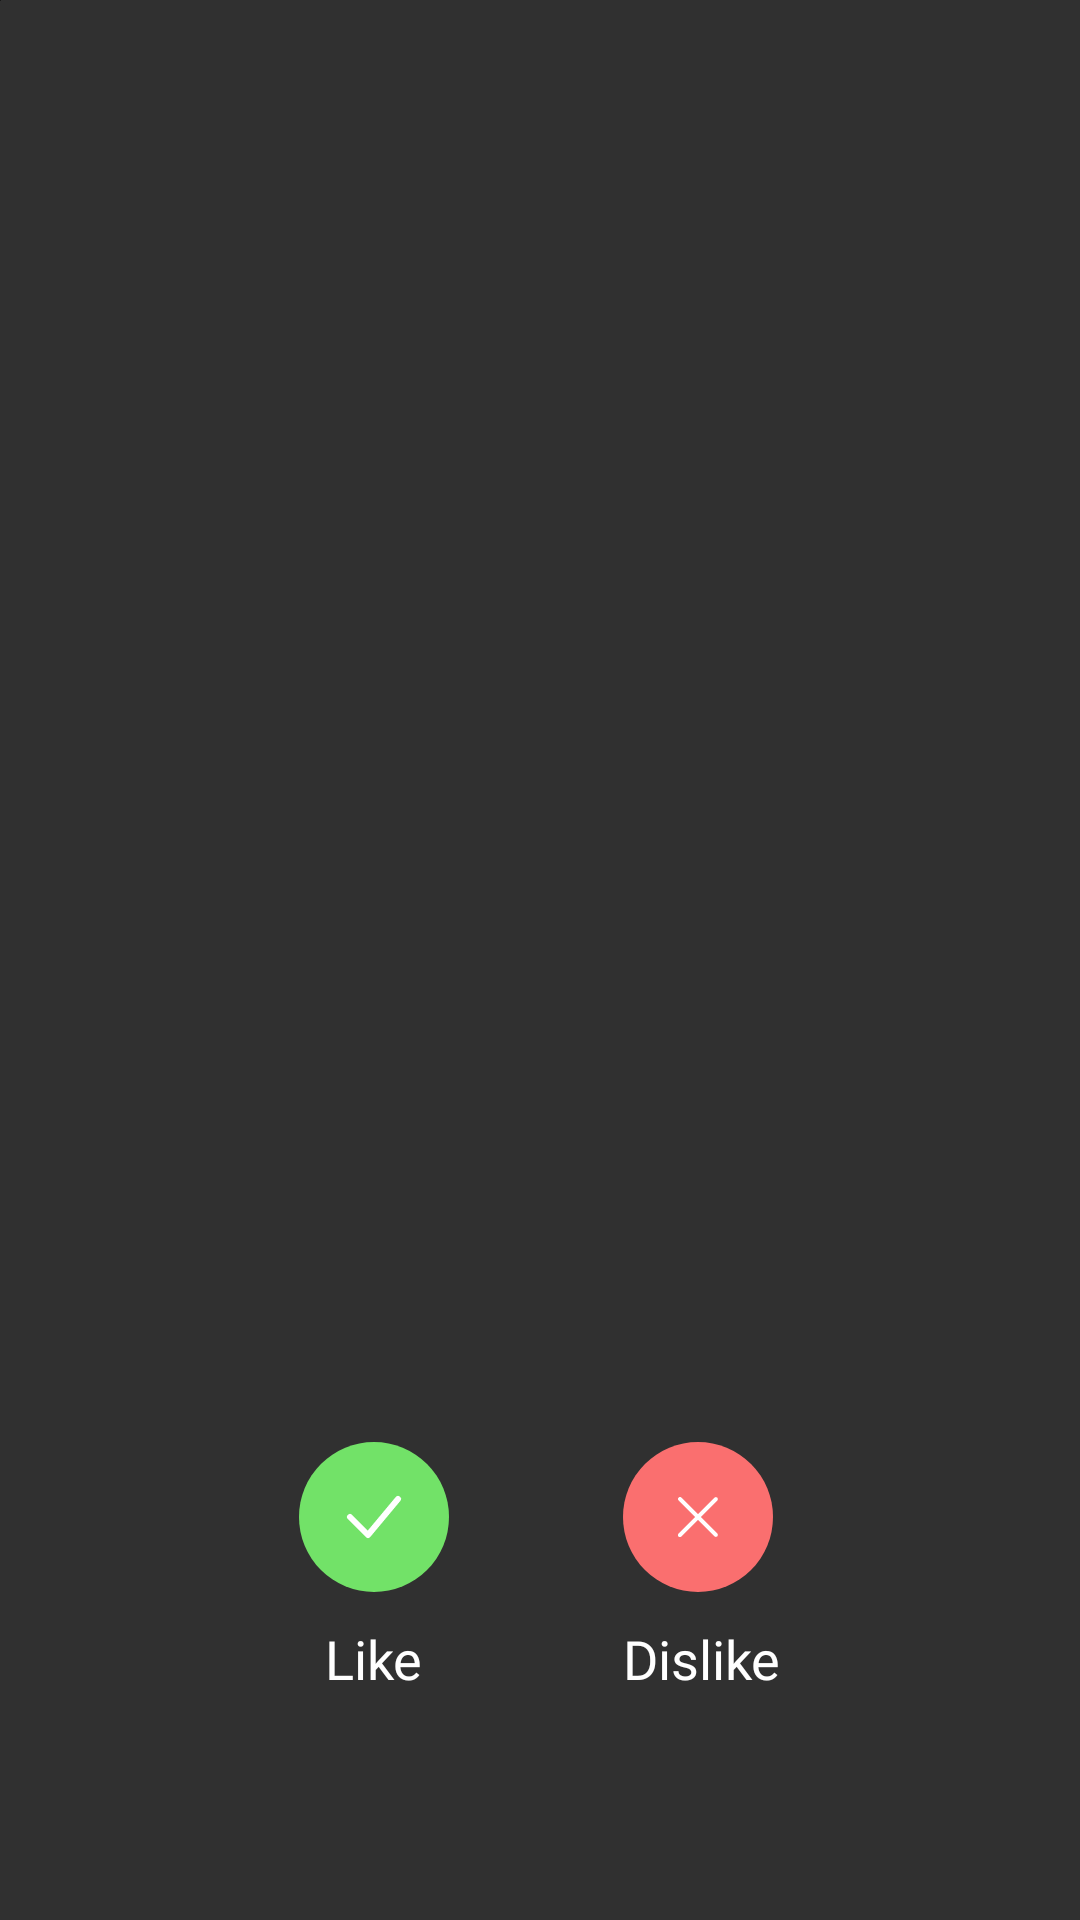

Where icons sit on this 1080*1920 app screen, as (x1, y1, x2, y2):
close: (623, 1442, 773, 1592)
done: (299, 1442, 449, 1592)
